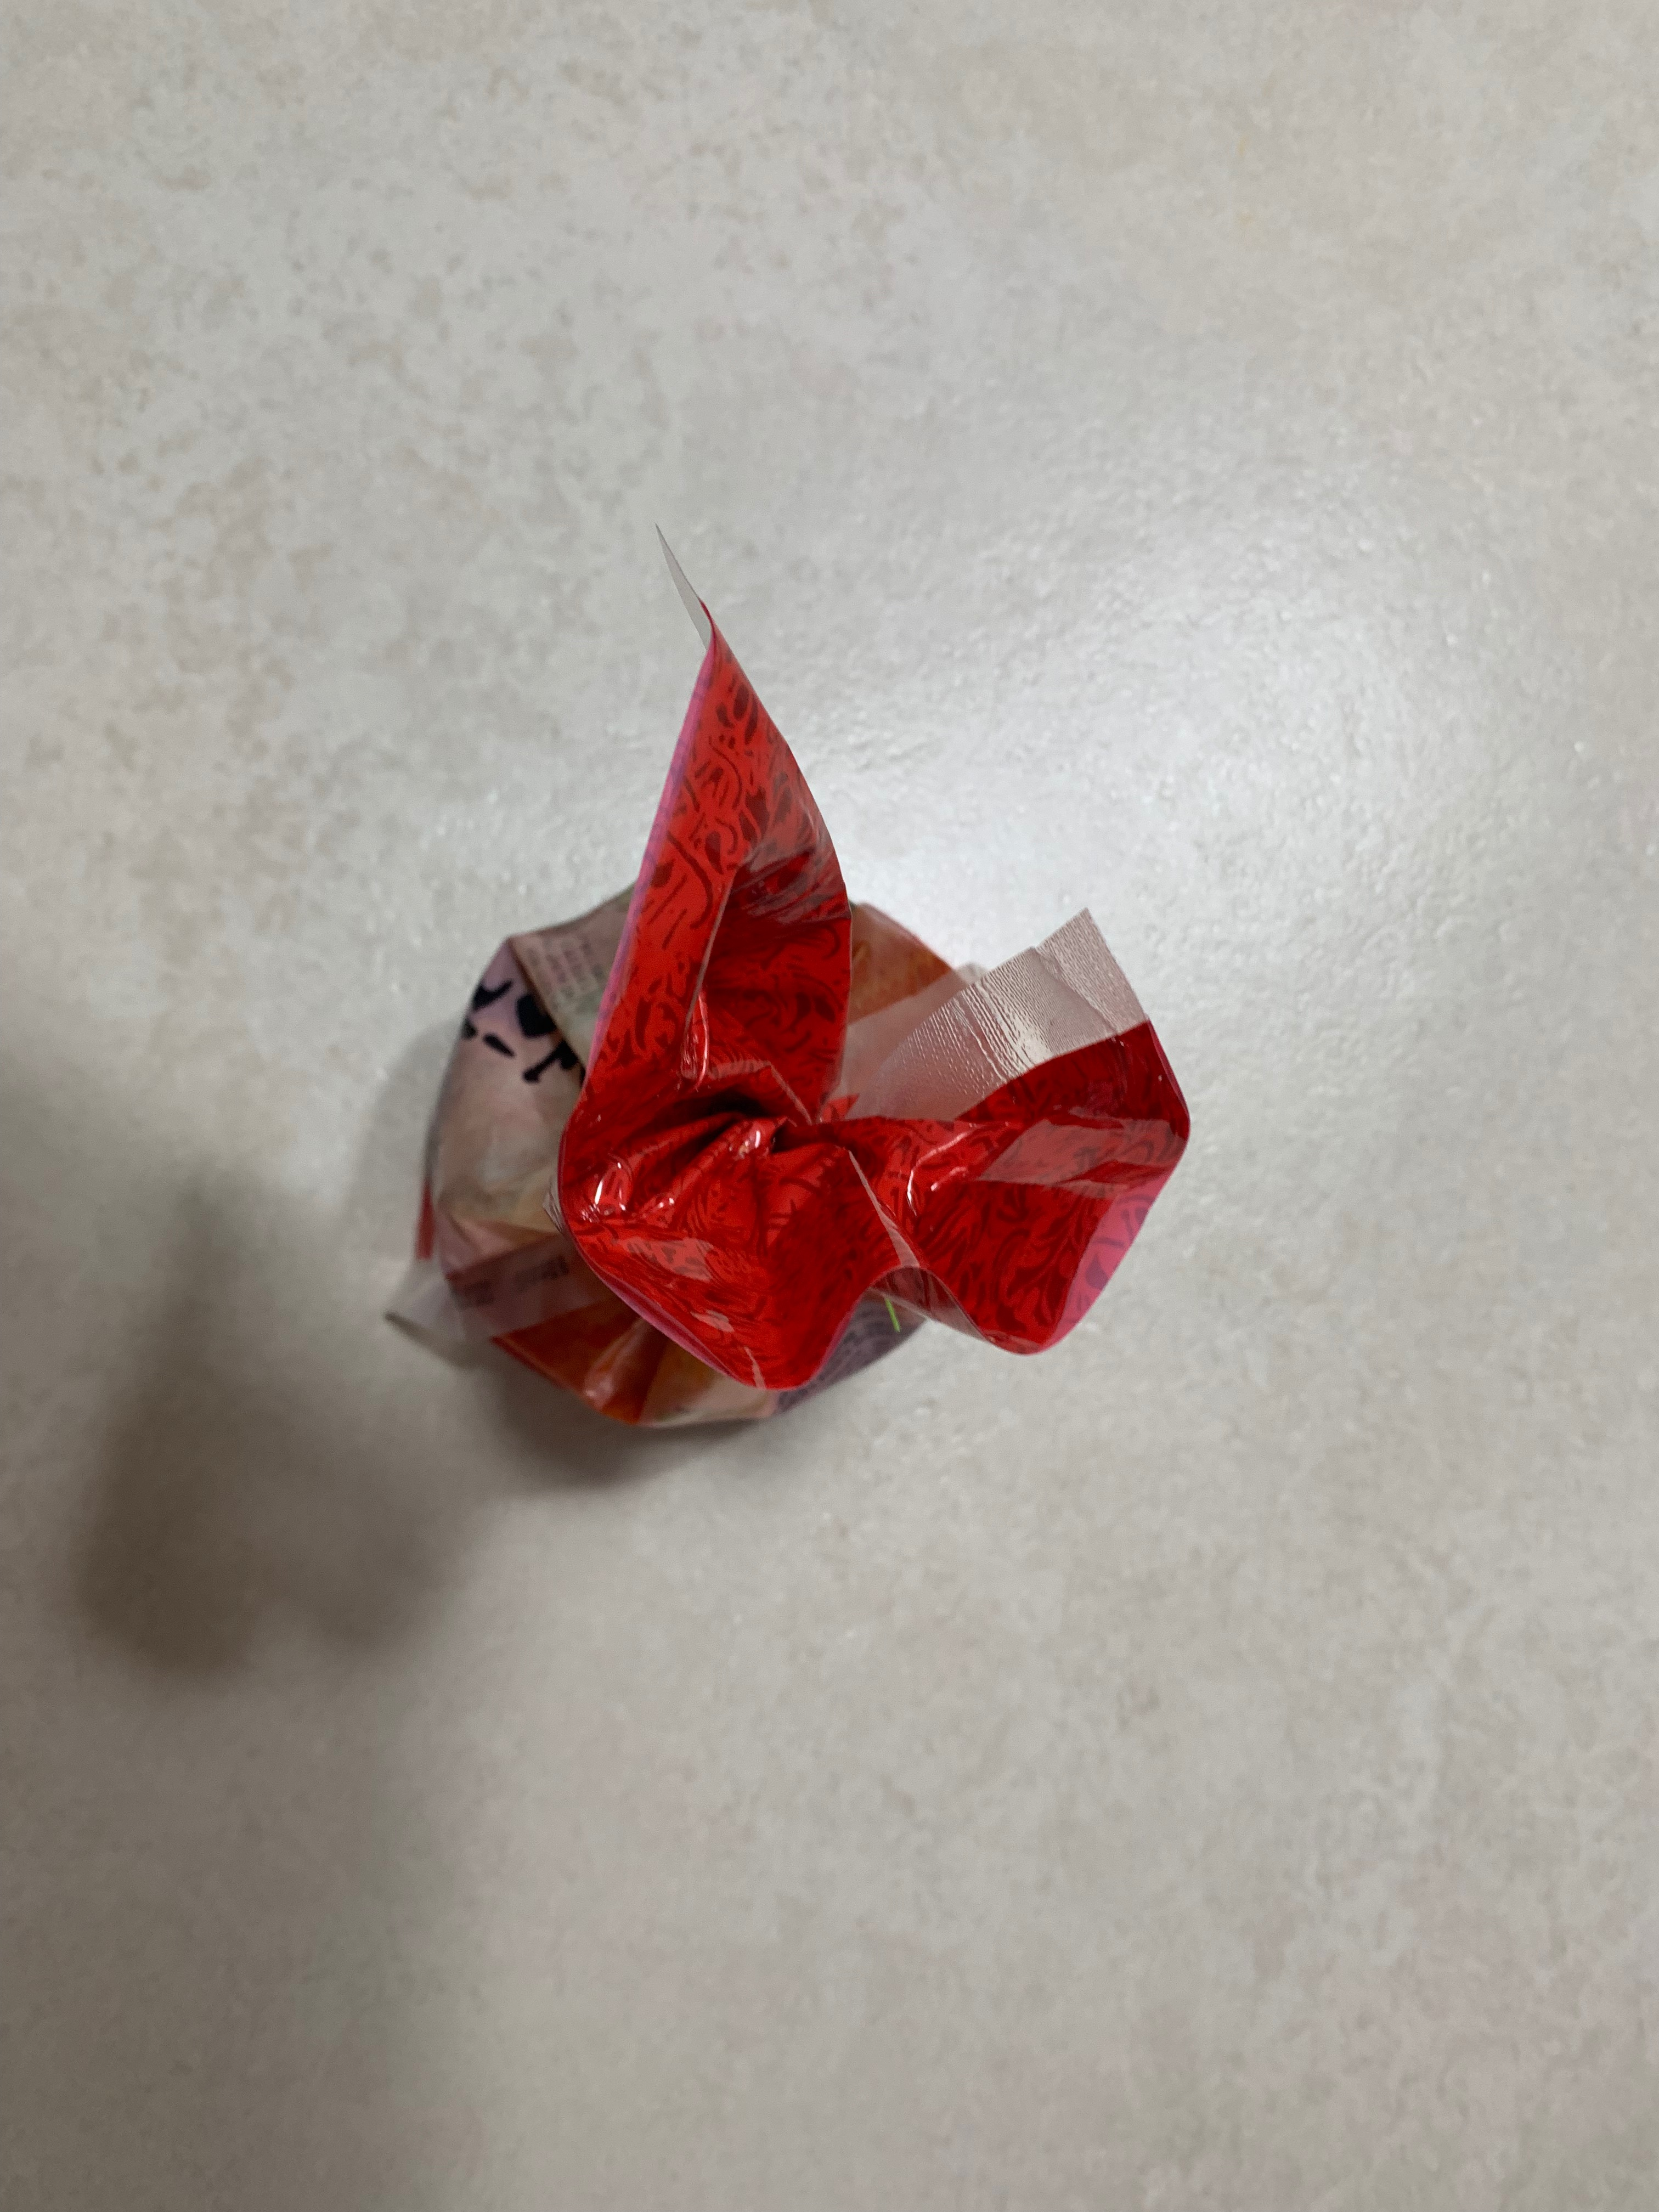kimchi: (418, 637, 1183, 1439)
